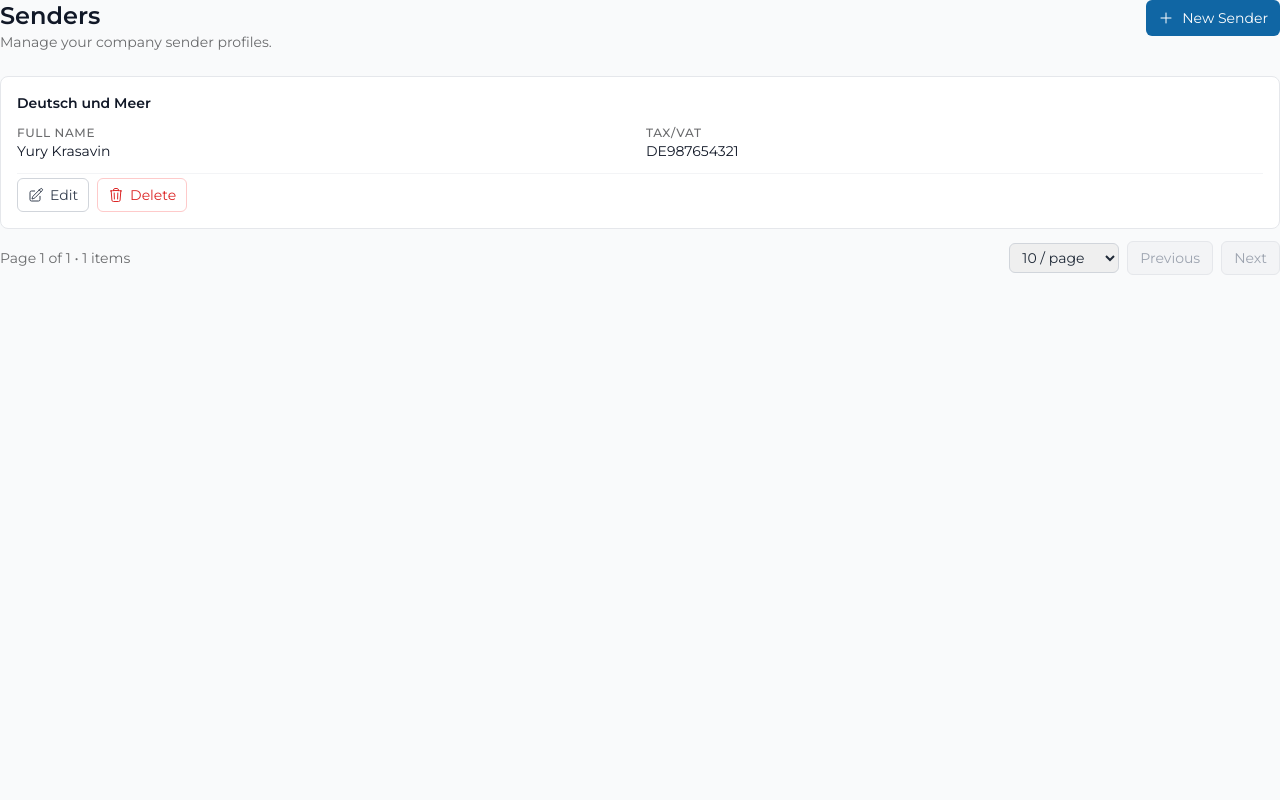
Test: SendersList at narrow widths (cards) › opens the confirm dialog on Delete tap and does not navigate
The image size is (1280, 800).
Click the button titled "Delete" at (142, 195), box [97,178,187,212]
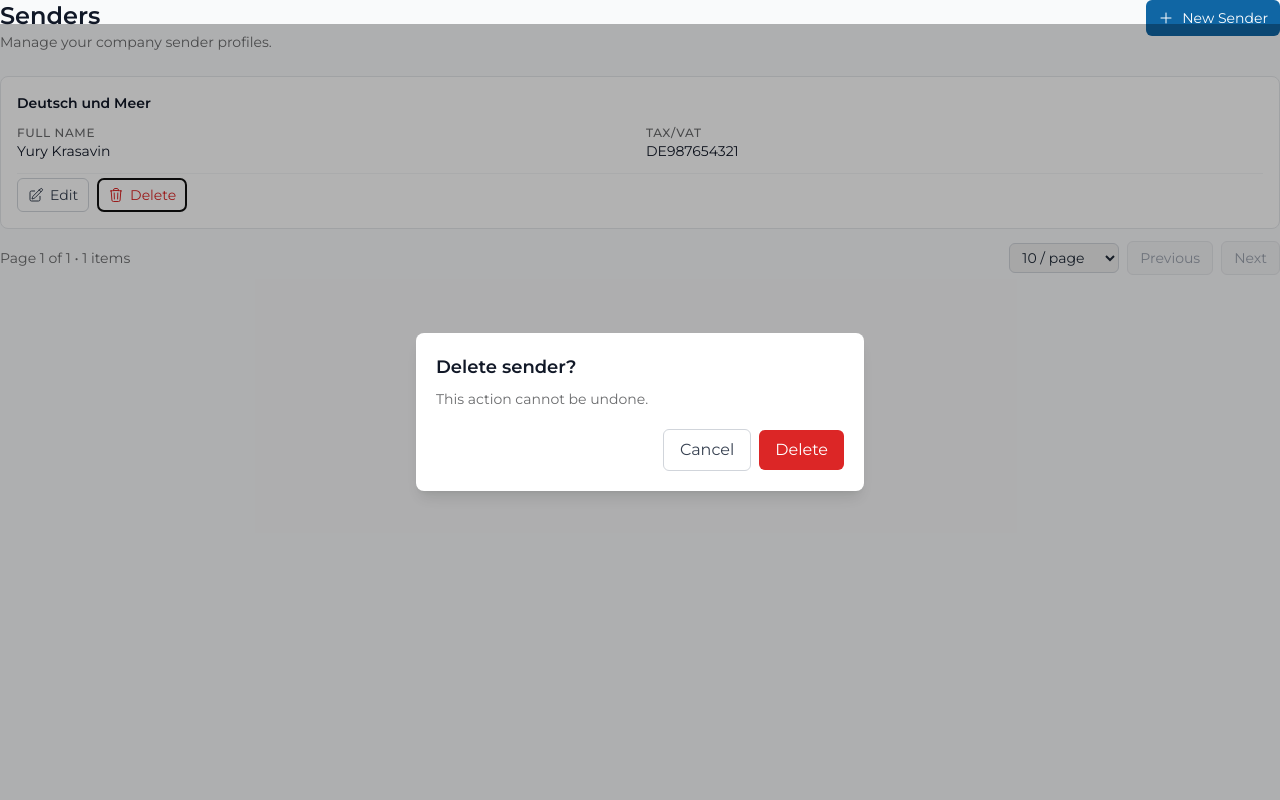
Check: the heading "Delete sender?" is shown, box [436,356,576,378]
